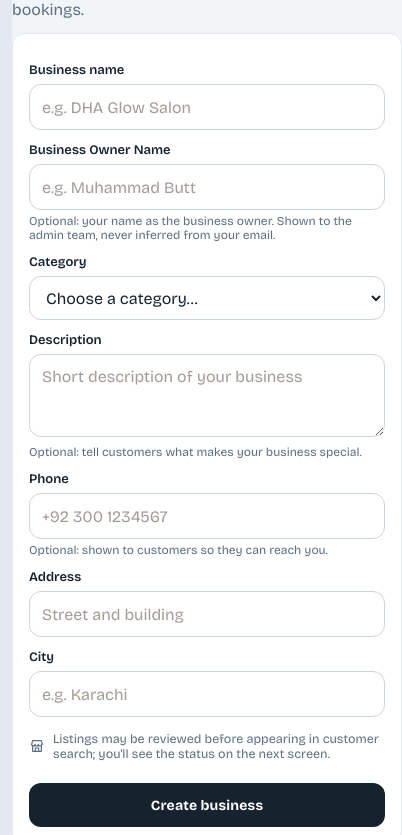
Scenario: CreateBusinessScreen › blocks submission and shows validation errors for invalid input
This screenshot has width=402, height=835.
(page scrolled)
Click the button "Create business": (207,805) [29,783,385,827]
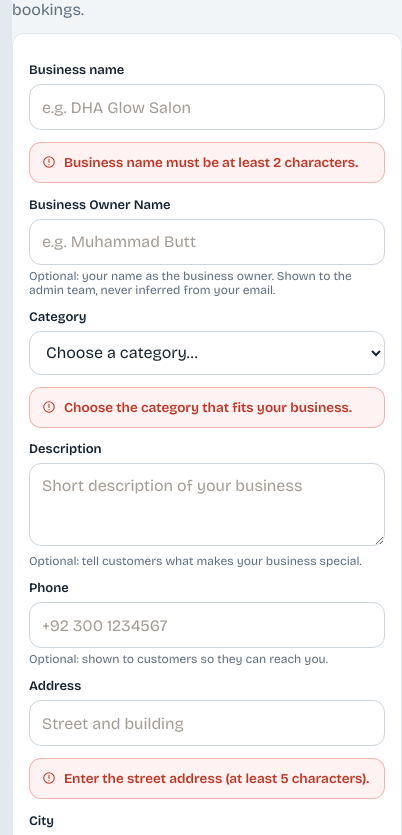
Expected: the text "Business name must be at least 2 characters." is shown, [29,142,385,183]
Expected: the text "Choose the category that fits your business." is shown, [29,386,385,428]
